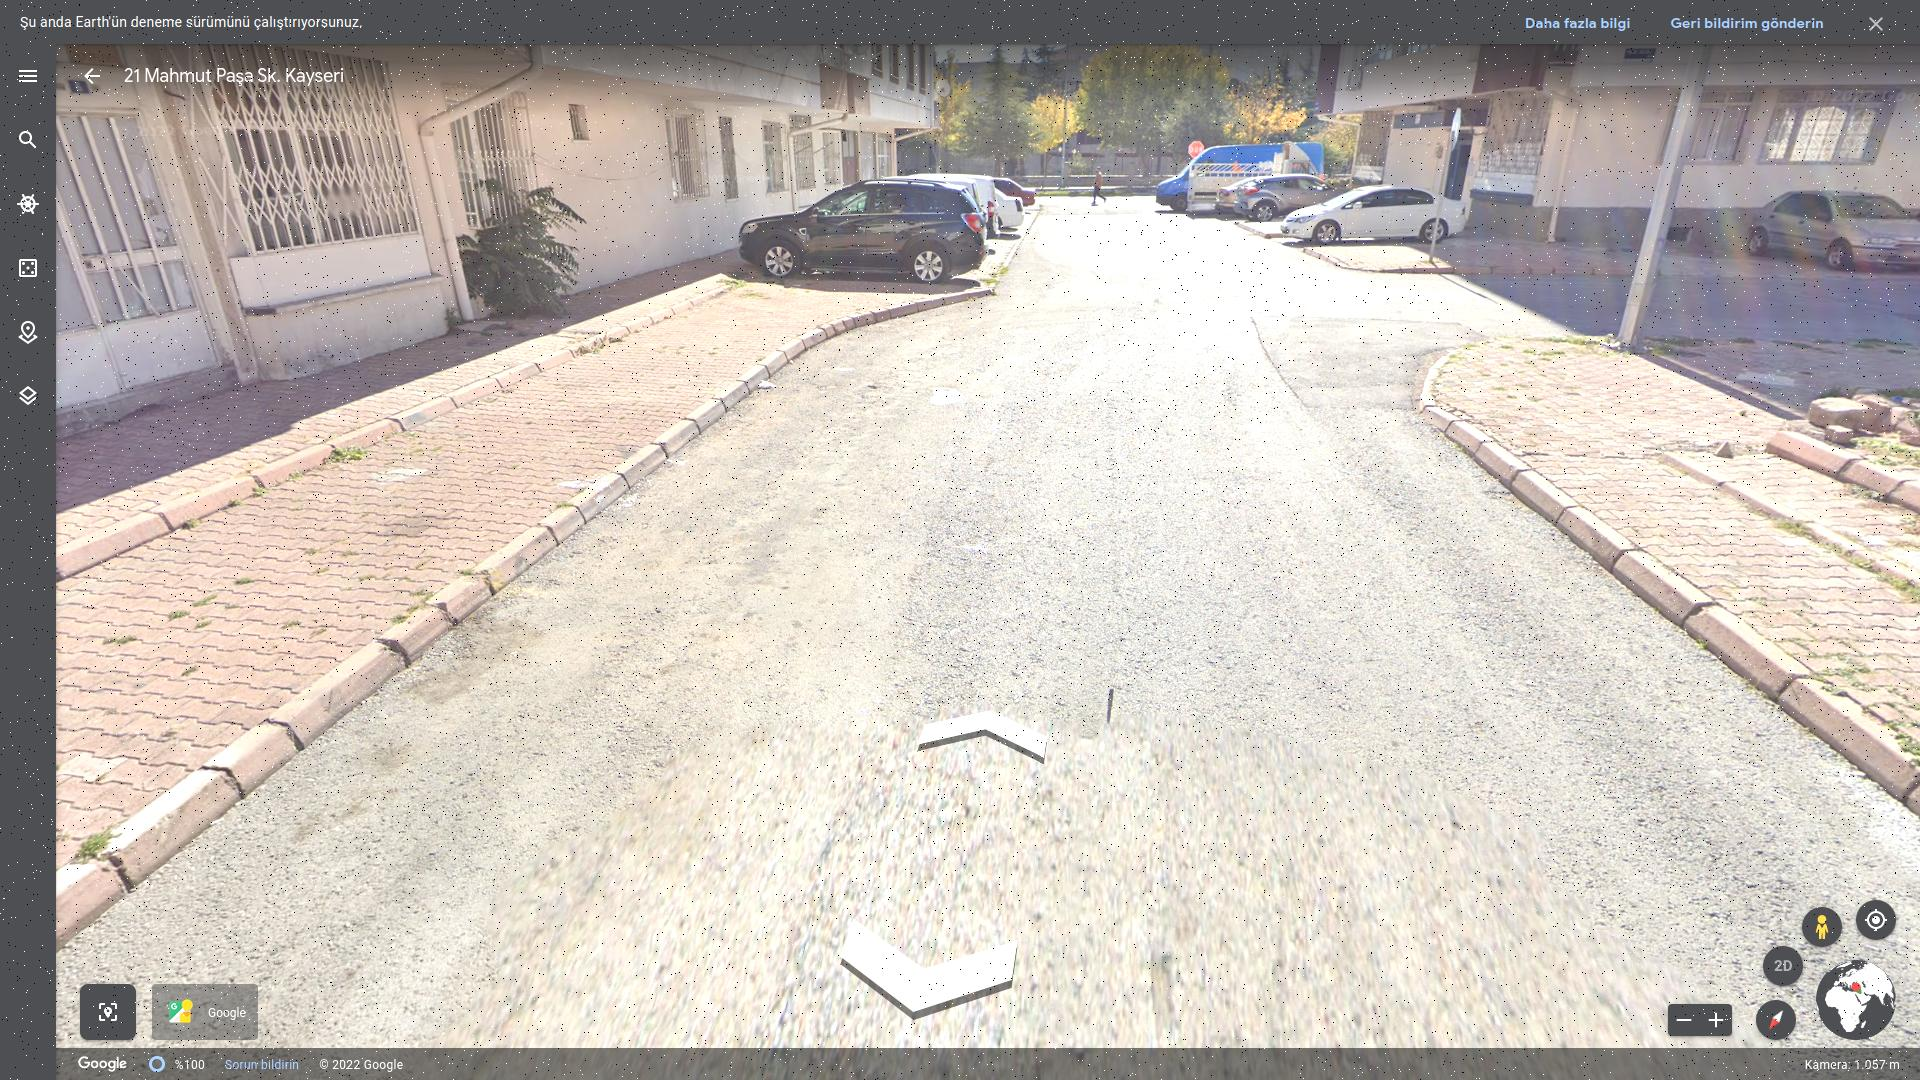stop: (1188, 140, 1204, 158)
